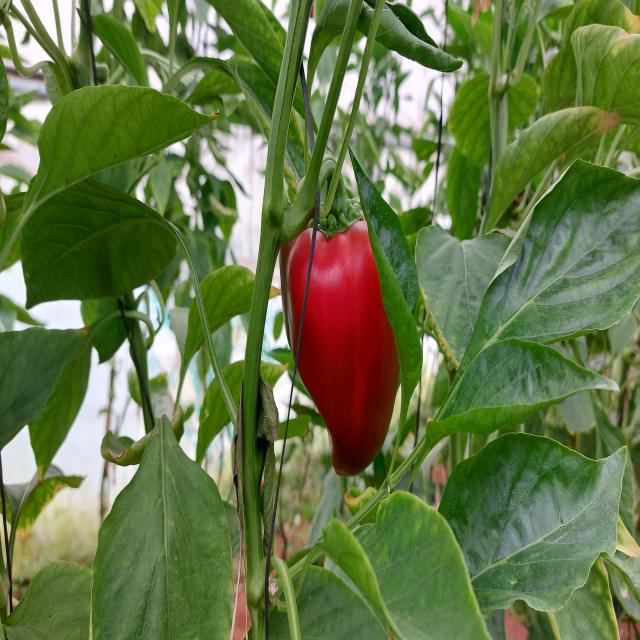Red-Ready-to-Harvest: (285, 221, 415, 467)
